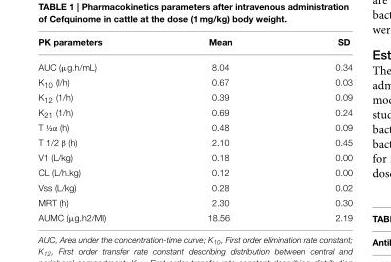table: (37, 37, 351, 222)
table column: (155, 37, 283, 222), (37, 37, 155, 222), (283, 37, 351, 222)
table column header: (37, 37, 351, 54)
table row: (37, 54, 351, 74), (37, 37, 351, 54), (37, 74, 351, 90), (37, 149, 351, 165), (37, 90, 351, 105), (37, 105, 351, 120), (37, 120, 351, 135), (37, 165, 351, 180), (37, 180, 351, 195), (37, 195, 351, 210), (37, 135, 351, 149), (37, 210, 351, 222)
